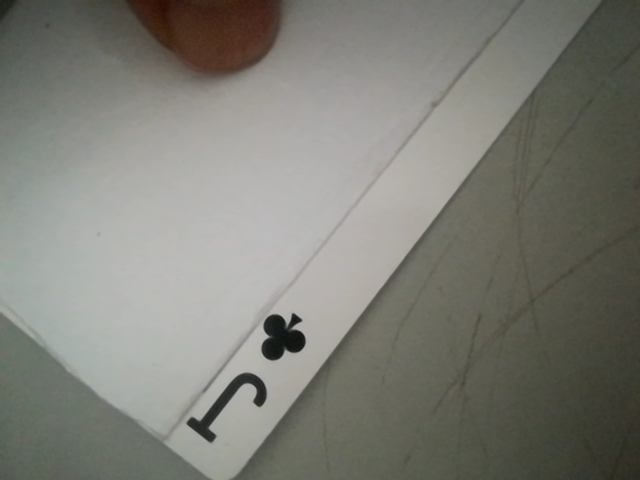mh j: (181, 302, 318, 459)
